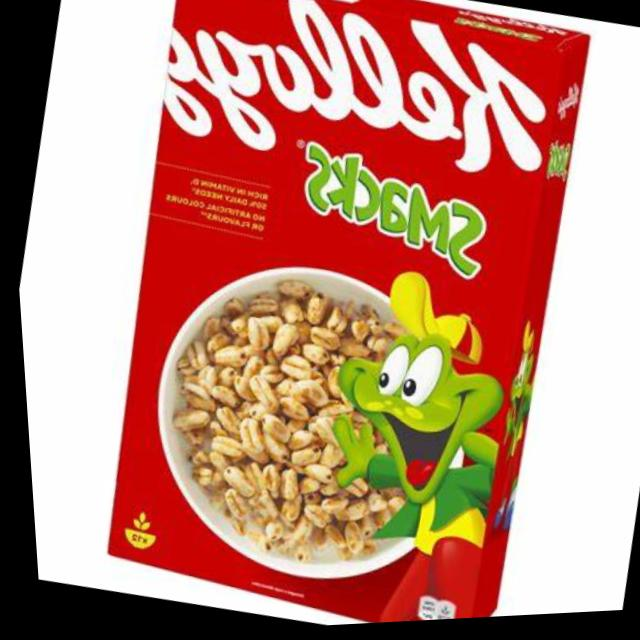Caja: (50, 0, 640, 637)
